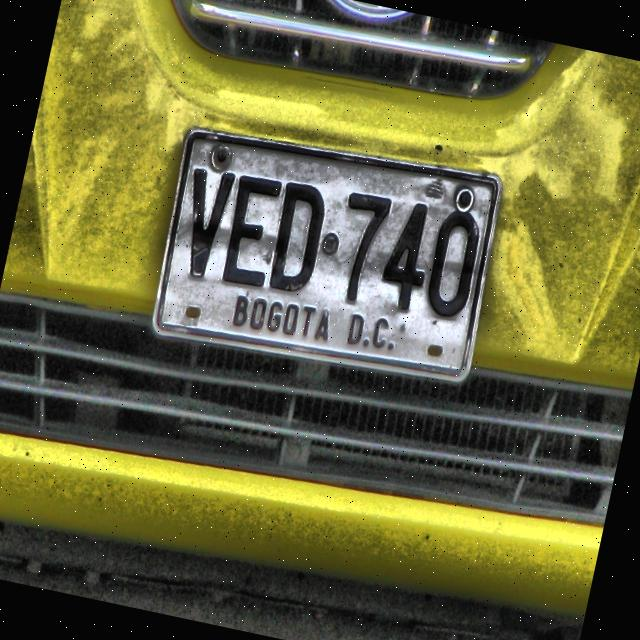0: (419, 205, 484, 321)
4: (374, 198, 438, 314)
7: (331, 188, 397, 304)
D: (266, 178, 330, 297)
E: (217, 171, 285, 291)
V: (174, 165, 238, 281)
